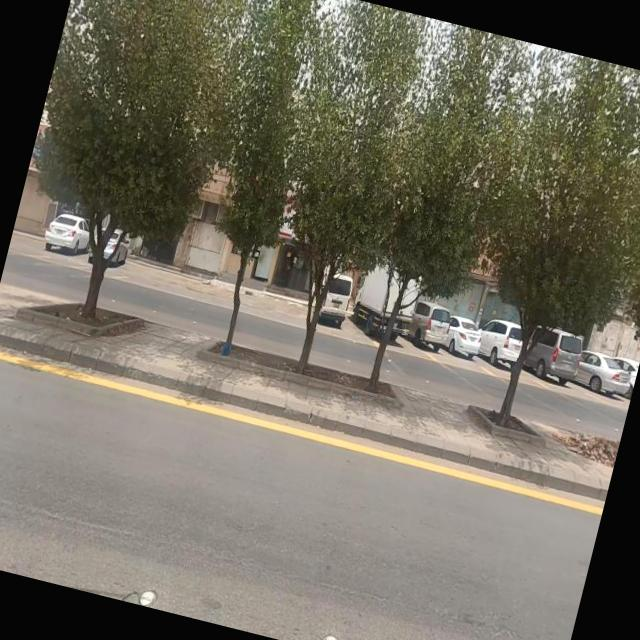debris: (328, 366, 383, 424), (200, 314, 252, 374), (42, 290, 92, 343)
